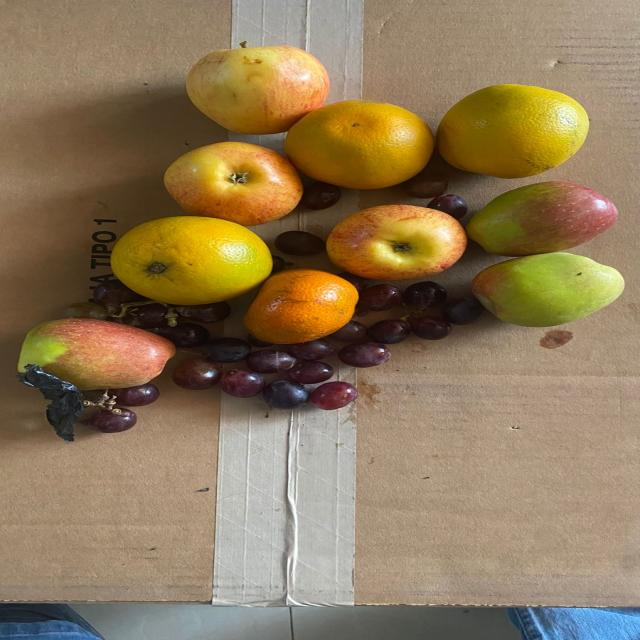bolsa_negra: (19, 365, 88, 441)
